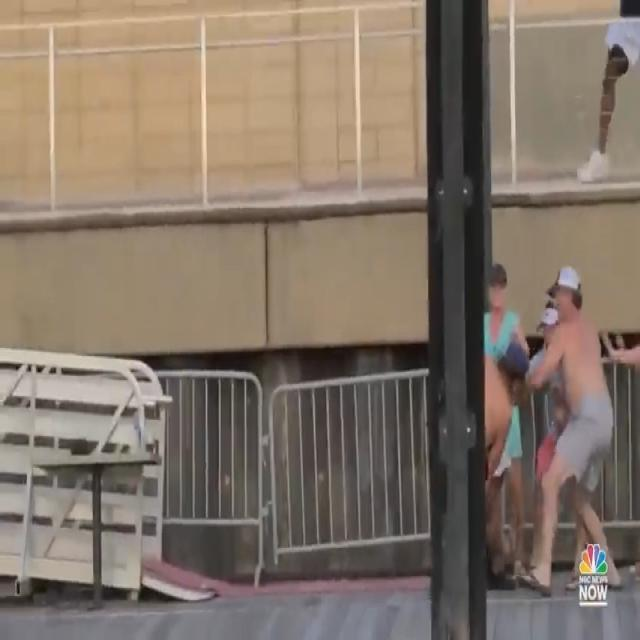fight: (485, 258, 623, 598)
